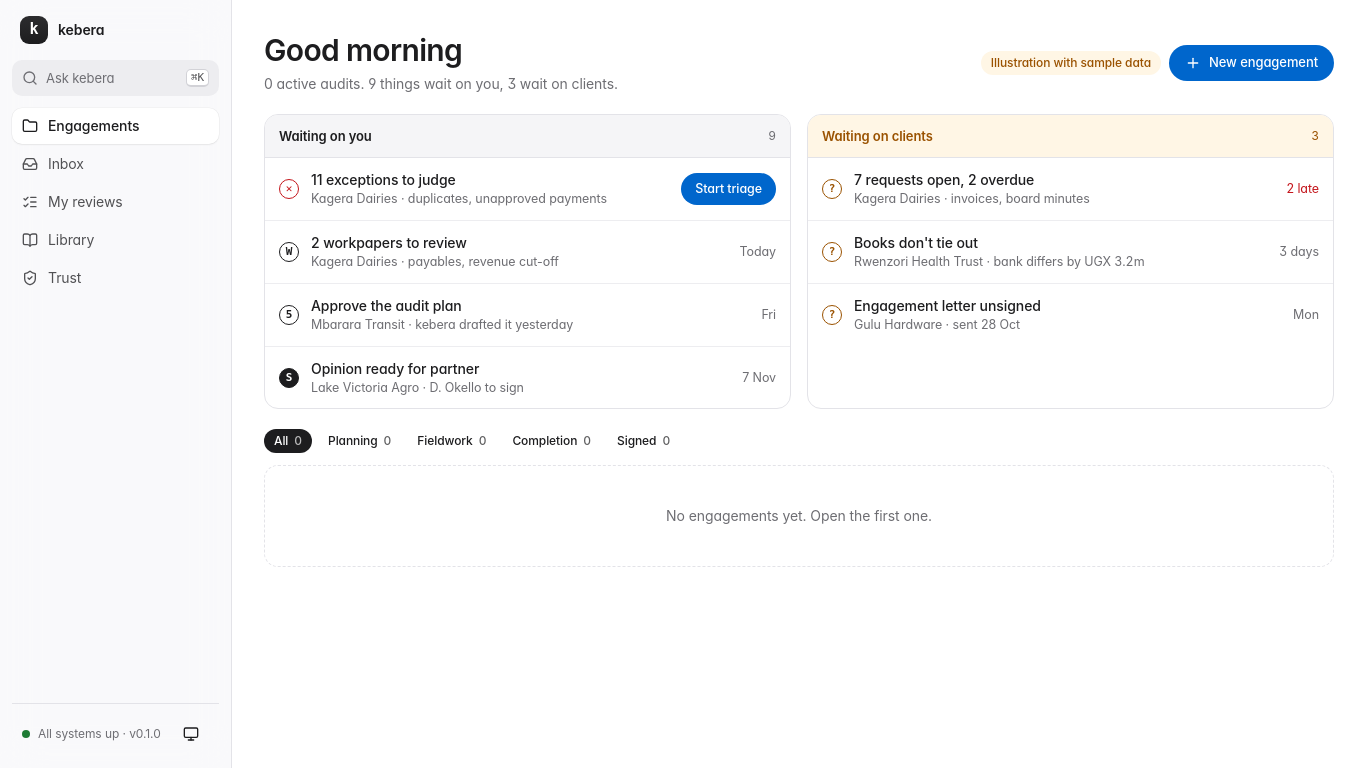
Test case: engagements › filters by phase through the API
Click the button "Signed 0": point(644, 441) [607,429,680,453]
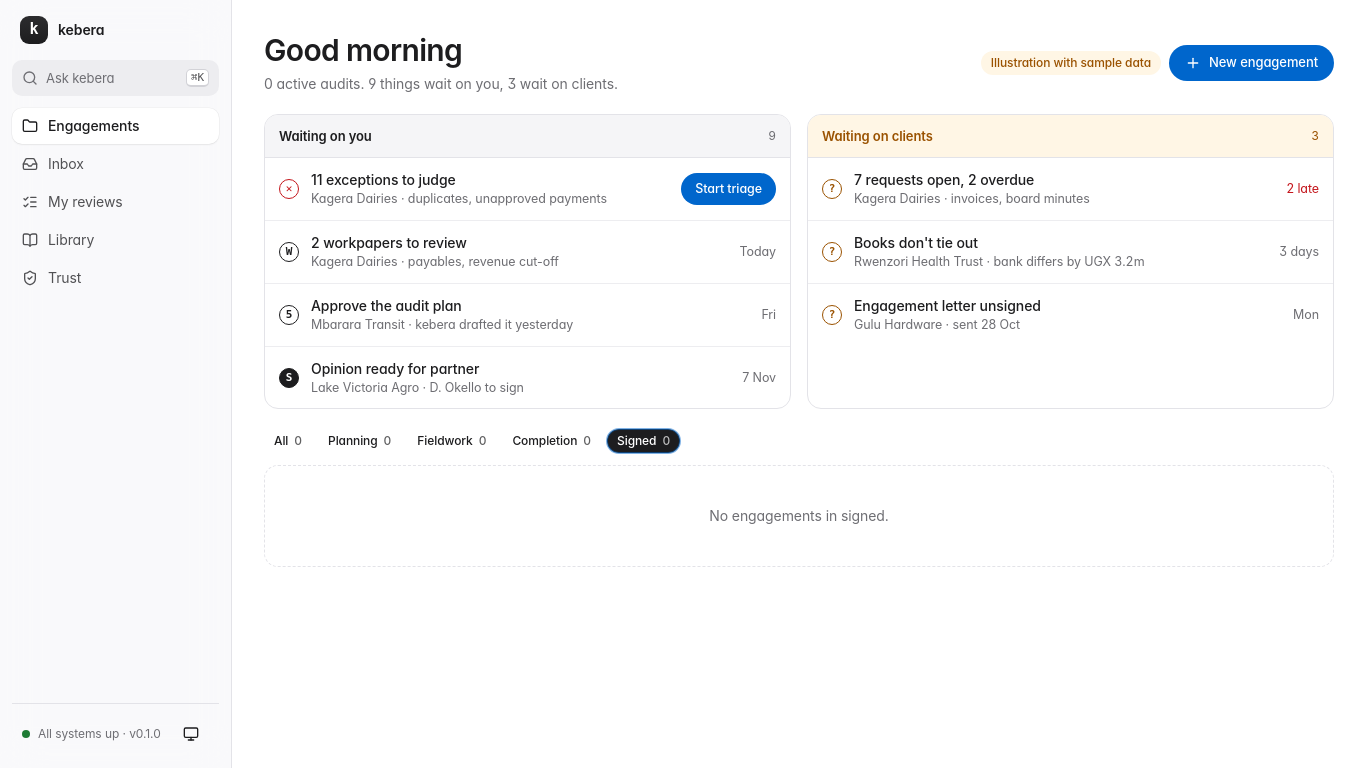
Check: the text "No engagements in signed." is shown, box [264,465,1334,567]
